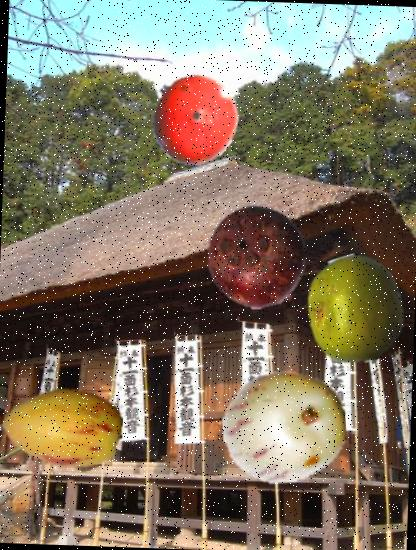Kaki: (146, 72, 240, 166)
Mangostan: (202, 202, 312, 312)
Pepino: (221, 363, 349, 491), (0, 366, 126, 491)
Pomelo: (300, 253, 412, 365)
